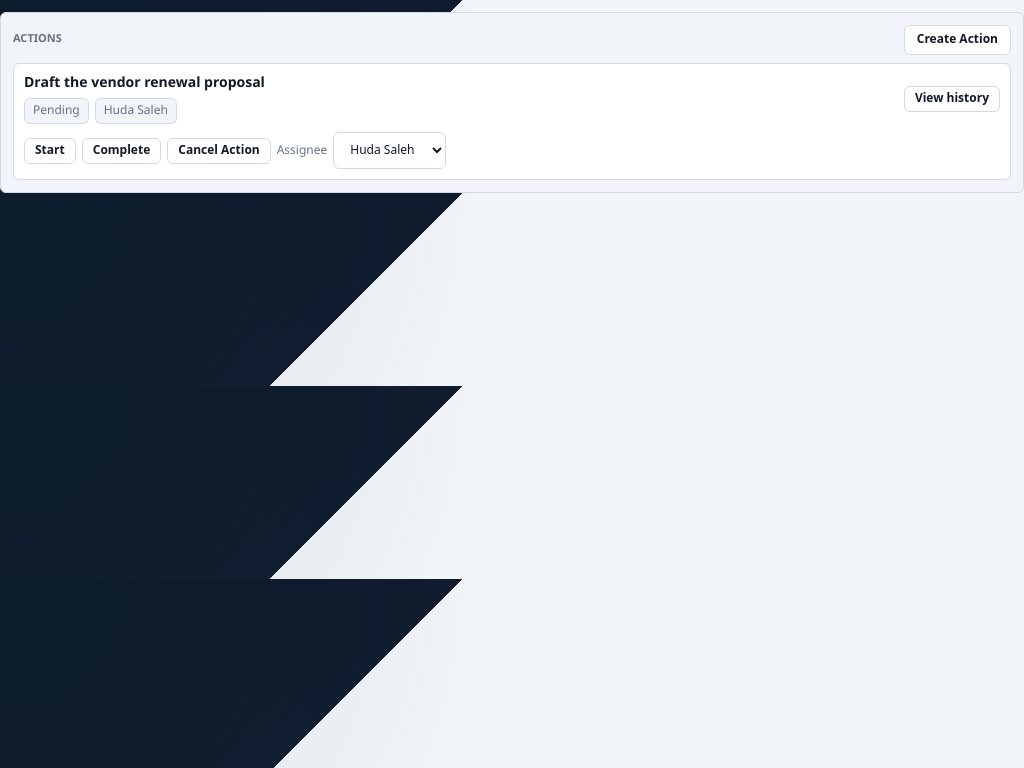
Test: Actions panel - assignment › unassigns user -> Unassigned via the selector, sending an explicit null (never an empty payload)
Select "Unassigned" in the dropdown labelled "Assignee": (390, 150) [333,132,446,169]
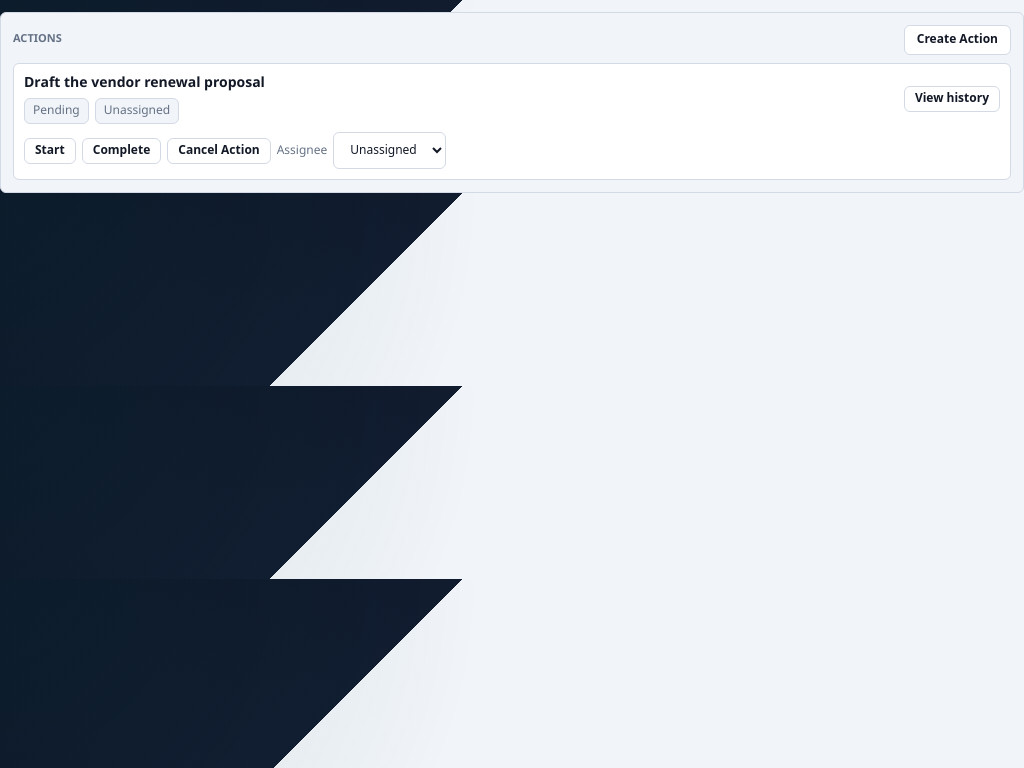
Now the text "Unassigned" is shown, box [95,98,179,124]
